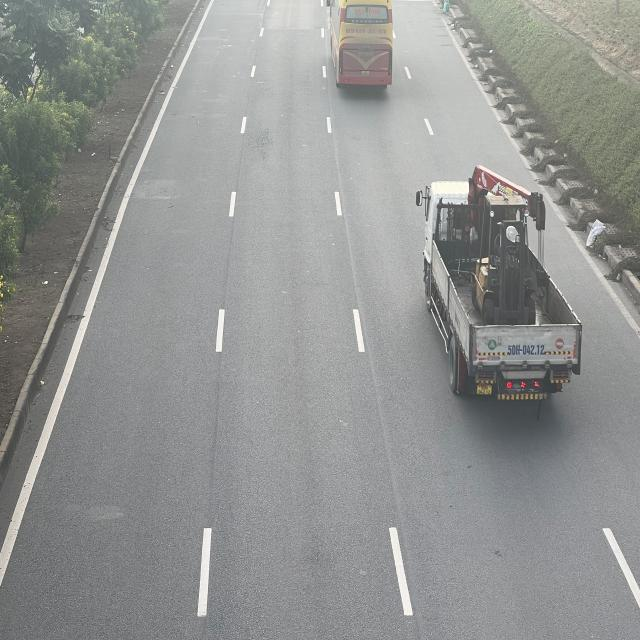coach: (325, 0, 393, 87)
truck: (424, 162, 588, 406)
